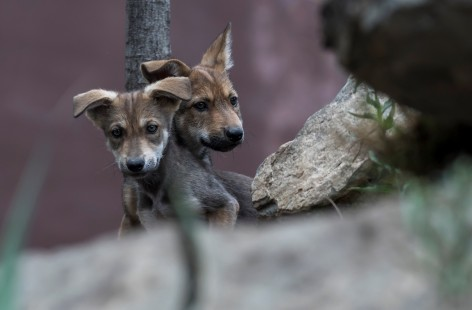Lobo: (144, 23, 267, 156), (64, 82, 188, 195)
